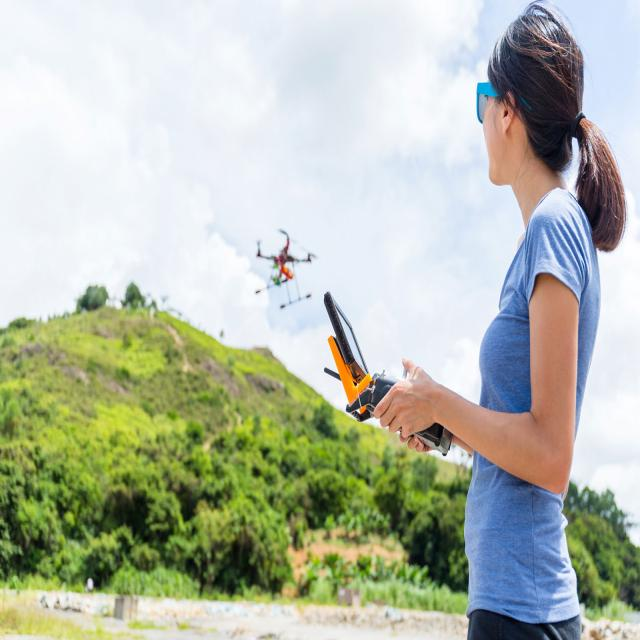drone: (241, 223, 322, 313)
